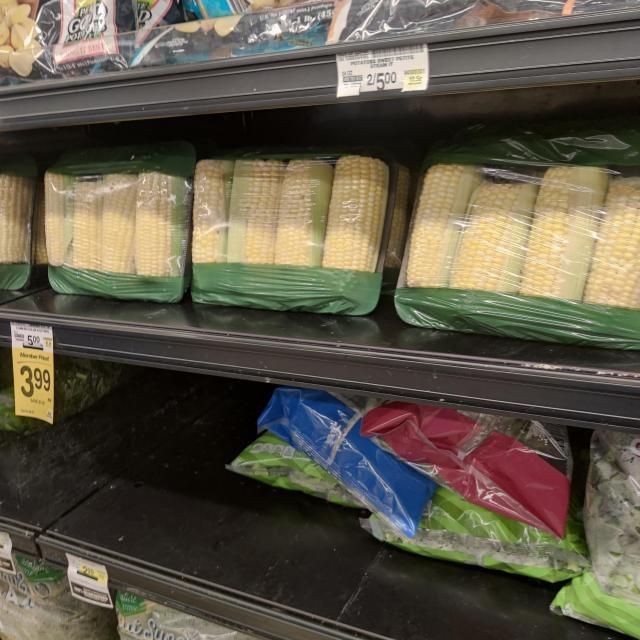Corn: (404, 141, 640, 341), (188, 152, 396, 314), (47, 166, 193, 300)
